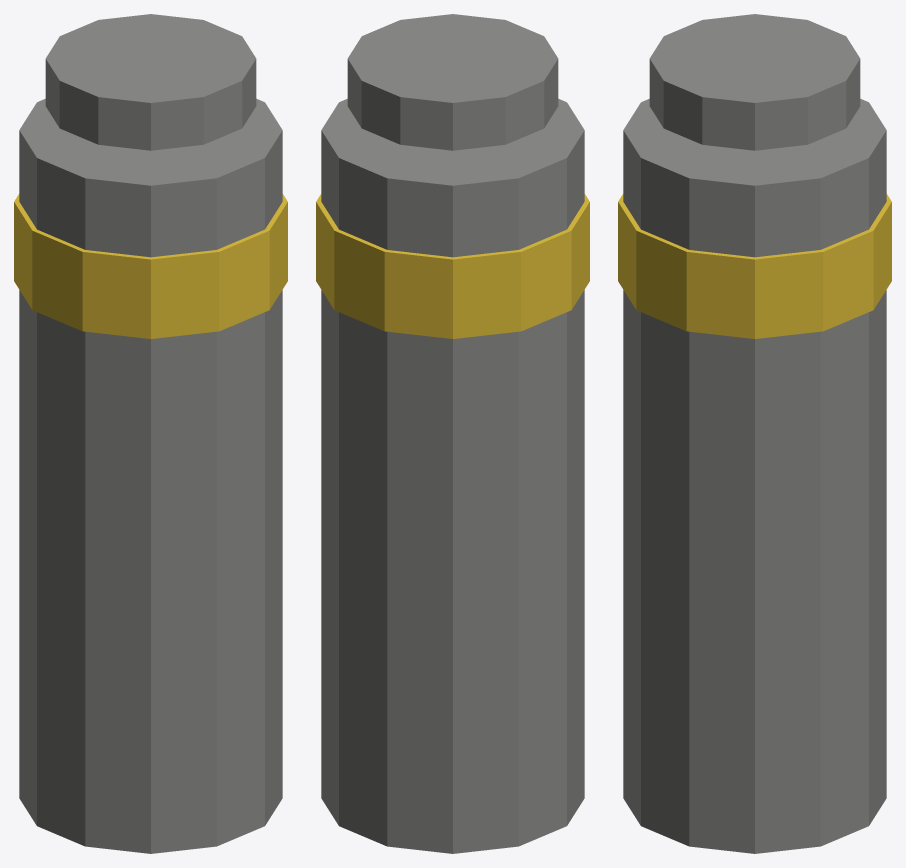
The model's file is bollard.glb.
3 renders of one model, left to right at view 1: azimuth 30°, elevation 25°; view 2: azimuth 150°, elevation 25°; view 3: azimuth 270°, elevation 25°, orthographic.
Parts seen in each view (by area): view 1: bollard; view 2: bollard; view 3: bollard.
Boxes of the visible parts, bbox=[...] form: bollard: bbox=[14, 14, 287, 853]; bollard: bbox=[316, 14, 589, 853]; bollard: bbox=[618, 14, 891, 853].
Bounding box in the file's own units: 0.312 × 0.93 × 0.312.
